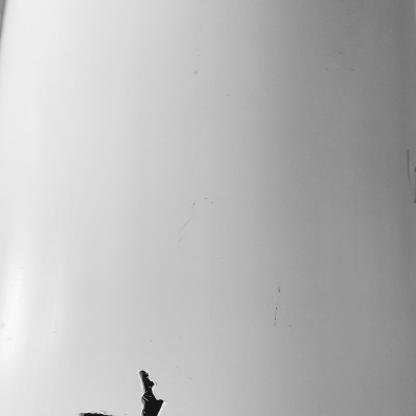kongdong: (131, 370, 172, 416), (79, 410, 121, 416)
